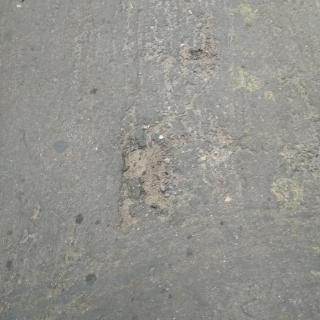pothole: (119, 113, 198, 233)
